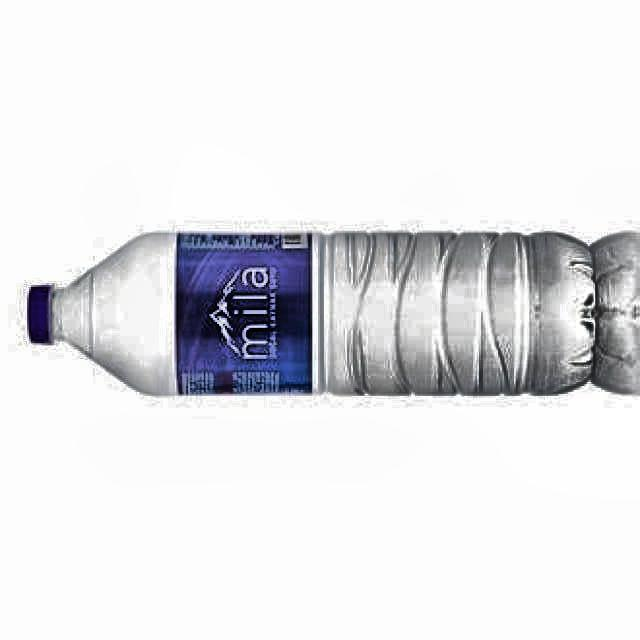plastic: (29, 234, 592, 393)
